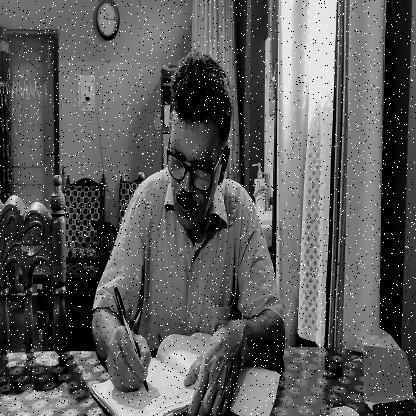Normal: (162, 52, 229, 230)
